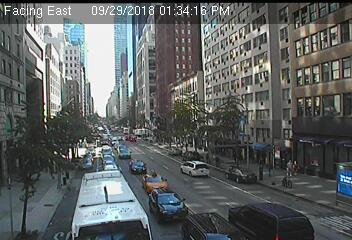car: (72, 171, 153, 240), (229, 203, 315, 240), (182, 212, 245, 240), (149, 189, 188, 221), (225, 167, 258, 184), (142, 172, 166, 194), (181, 160, 211, 177), (129, 159, 147, 174), (182, 151, 204, 163), (103, 165, 119, 175), (118, 148, 132, 159), (167, 148, 182, 157), (80, 158, 92, 169), (102, 154, 115, 164), (82, 154, 94, 160)
